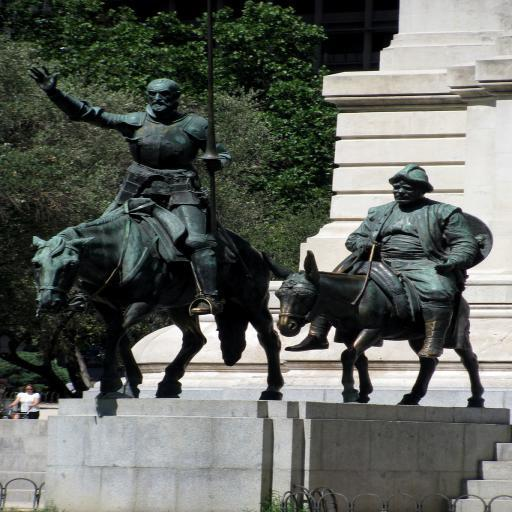horse: (30, 200, 287, 399), (263, 252, 489, 406)
